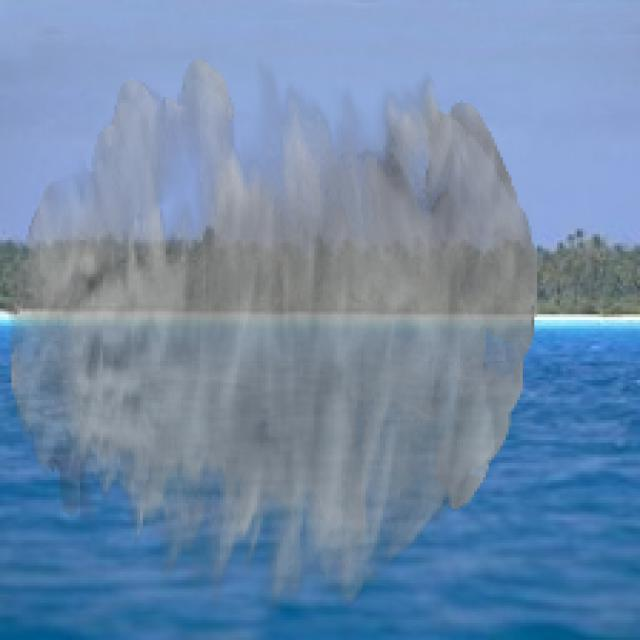smoke: (9, 57, 537, 612)
